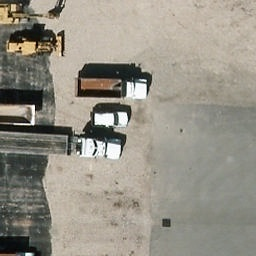car: (90, 112, 131, 127)
other: (0, 0, 65, 28), (7, 30, 65, 58)
truck: (0, 129, 126, 159), (76, 74, 149, 104)
